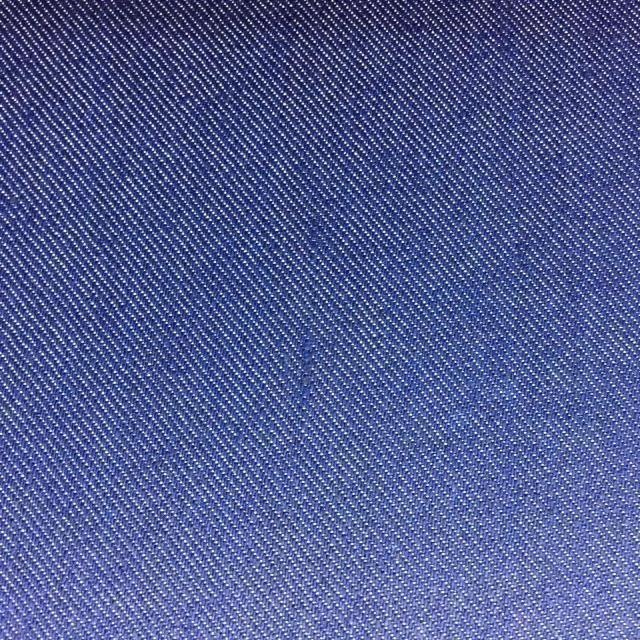Line: (287, 195, 332, 437)
